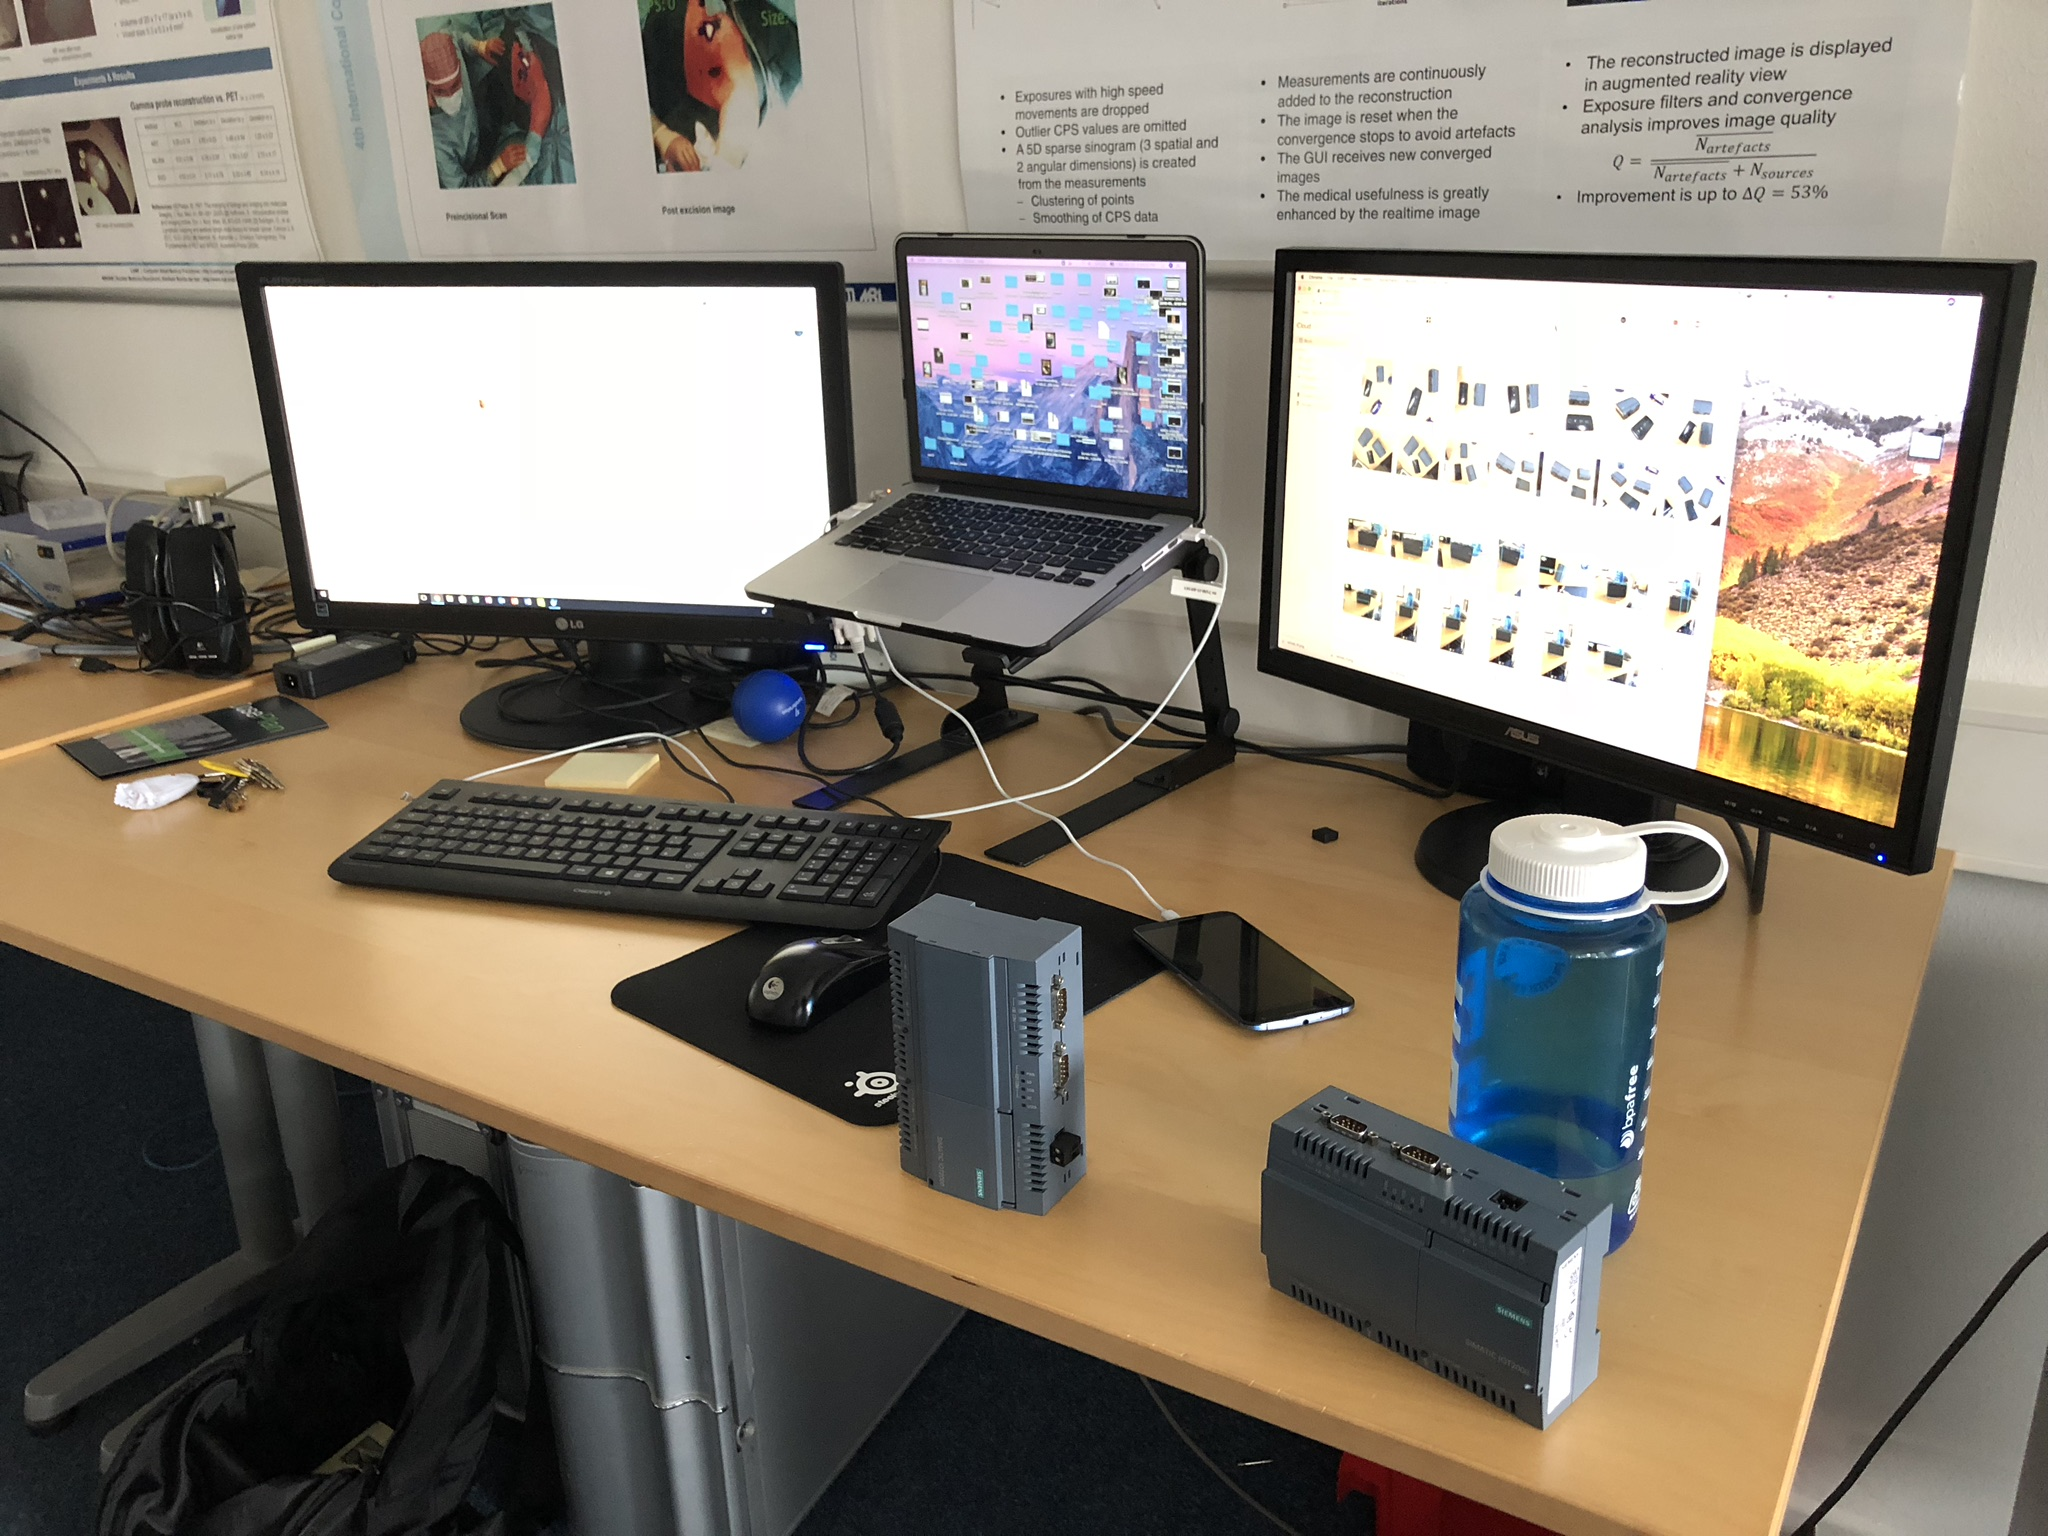device: (1259, 1084, 1613, 1433), (889, 894, 1087, 1217)
